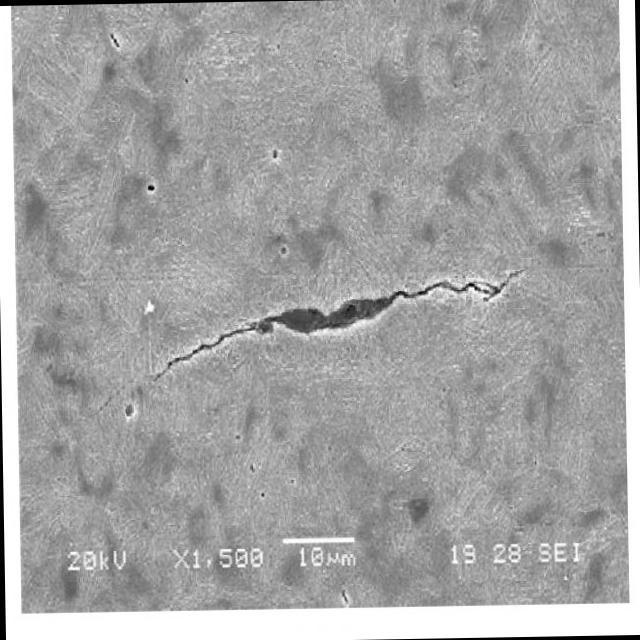defect: (139, 266, 535, 395)
